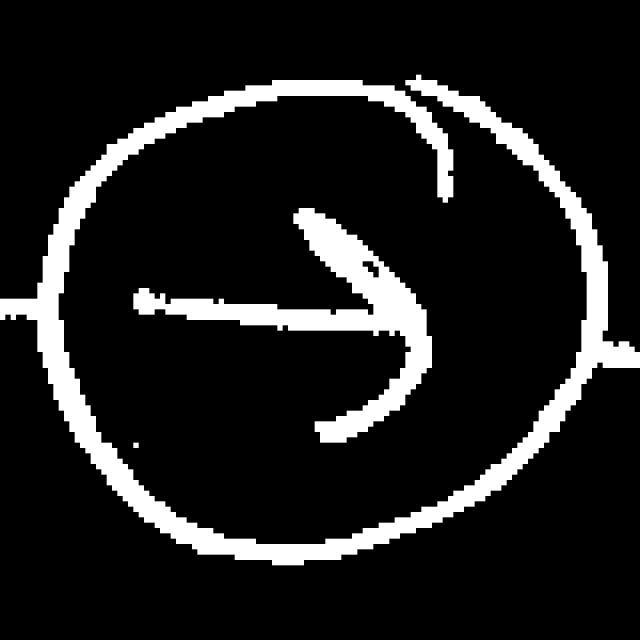current_source: (31, 69, 612, 584)
